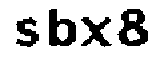8: (113, 6, 151, 48)
b: (46, 6, 77, 48)
s: (13, 17, 40, 49)
x: (80, 15, 111, 48)
